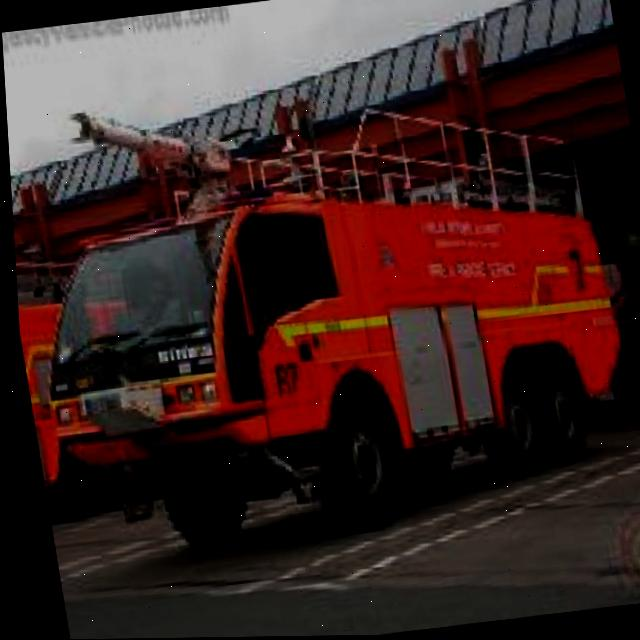emergency: (7, 152, 640, 568)
